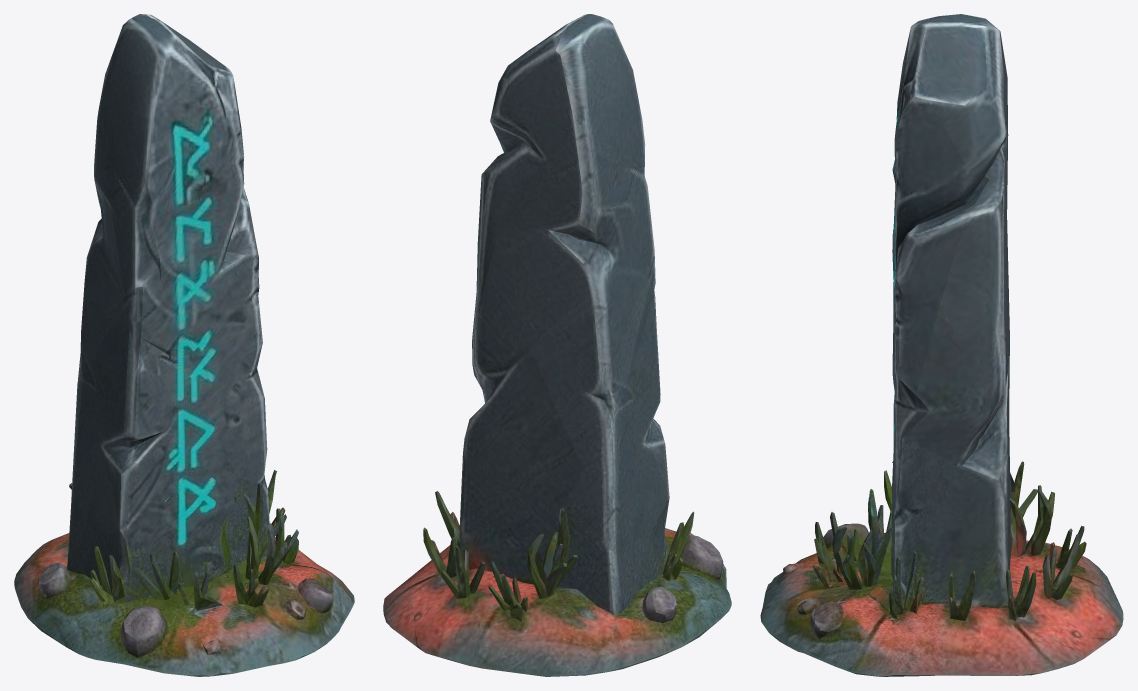
File: menhir.glb
3 views of the same model, side by side, from view 1: azimuth 30°, elevation 25°; view 2: azimuth 150°, elevation 25°; view 3: azimuth 270°, elevation 25° (orthographic).
Visible parts, largest first — view 1: menhir; view 2: menhir; view 3: menhir.
Part boxes in pixels (box(x1,y1,x2,y2)): menhir: box(14, 14, 354, 676); menhir: box(383, 14, 731, 676); menhir: box(760, 14, 1123, 676).
Bounding box in the file's own units: 1.69 × 3.4 × 1.93.
1 material, 1 textured.
